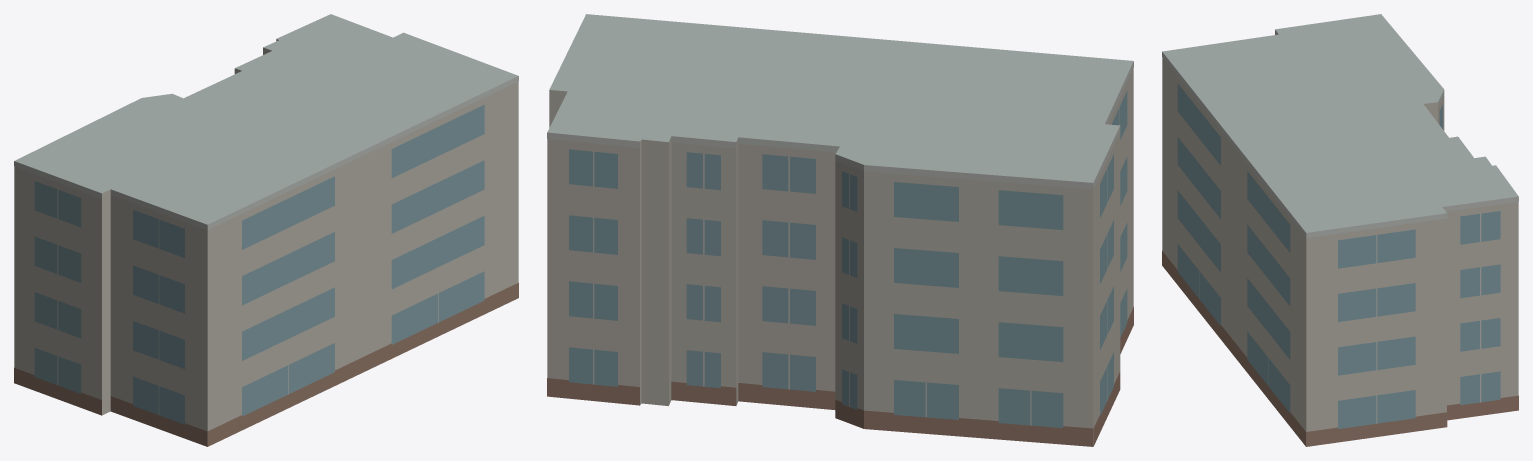
The model's file is survey-upis-32723285.glb.
3 views of the same model, side by side, from view 1: azimuth 30°, elevation 25°; view 2: azimuth 150°, elevation 25°; view 3: azimuth 270°, elevation 25° (orthographic). The views are drawn at different scales.
Parts seen in each view (by area): view 1: survey-upis-32723285.tmp; view 2: survey-upis-32723285.tmp; view 3: survey-upis-32723285.tmp.
Part boxes in pixels (x1,y1,x2,y2): survey-upis-32723285.tmp: (14, 14, 518, 446); survey-upis-32723285.tmp: (547, 14, 1133, 446); survey-upis-32723285.tmp: (1162, 14, 1518, 446).
Bounding box in the file's own units: 21.95 × 10 × 15.12.
